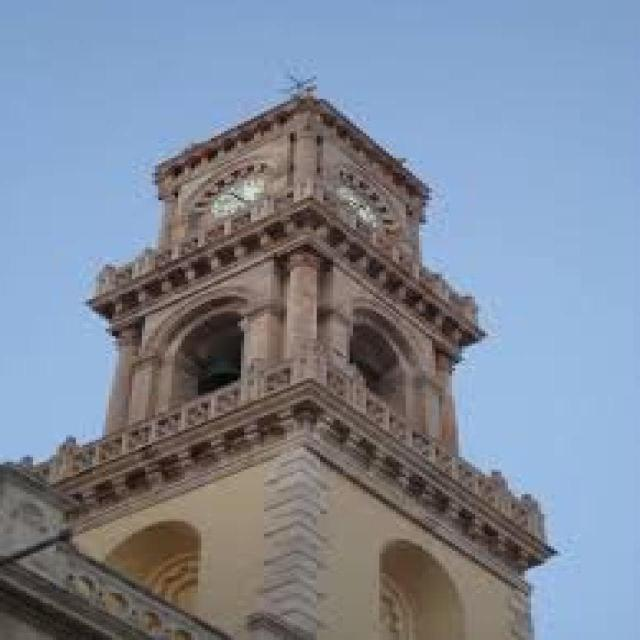Agios Minas: (9, 77, 565, 640)
